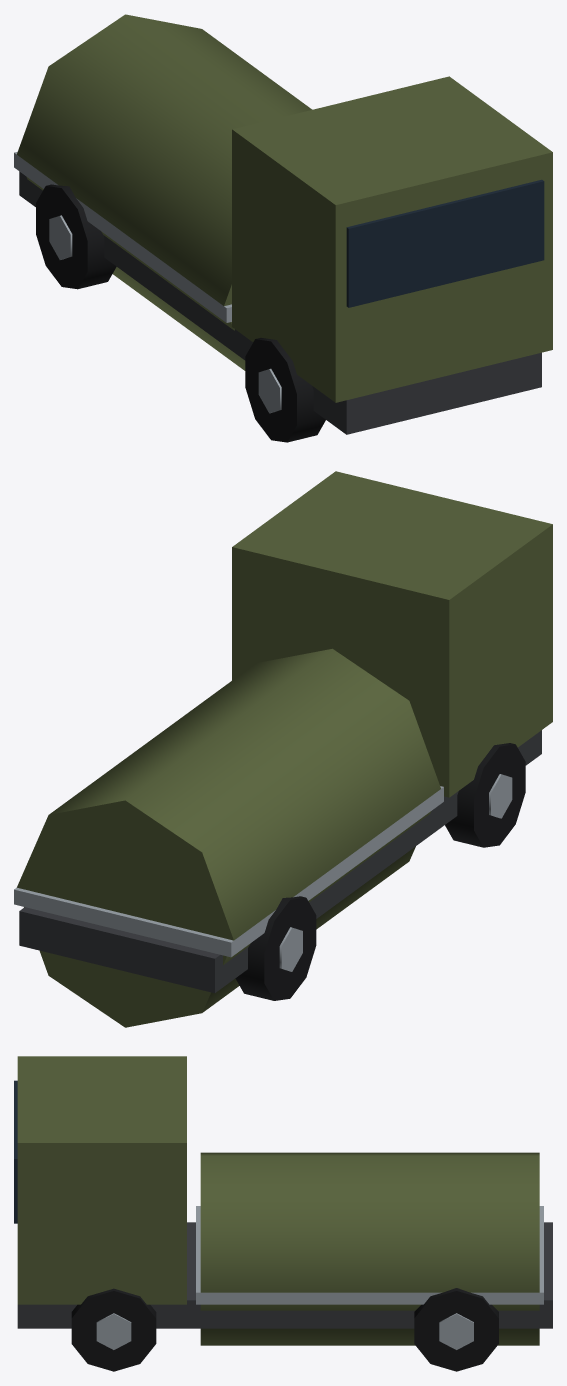
File: veh_ground_truck_a07.glb
3 renders of one model, top to bottom at view 1: azimuth 30°, elevation 25°; view 2: azimuth 150°, elevation 25°; view 3: azimuth 270°, elevation 25°, orthographic. The views are drawn at different scales.
Parts seen in each view (by area): view 1: body, wheel_0, wheel_2; view 2: body, wheel_0, wheel_2; view 3: body, wheel_3, wheel_1.
Part boxes in pixels (bbox=[...]): body: bbox=[14, 14, 552, 434]; wheel_0: bbox=[36, 184, 116, 289]; wheel_2: bbox=[245, 338, 325, 442]; body: bbox=[14, 471, 552, 1027]; wheel_0: bbox=[235, 896, 316, 1000]; wheel_2: bbox=[445, 743, 525, 847]; body: bbox=[14, 1056, 552, 1345]; wheel_3: bbox=[71, 1288, 156, 1371]; wheel_1: bbox=[414, 1288, 498, 1371].
Size of what is drawn, in the model's own units: 2.46 by 3 by 6.04.
